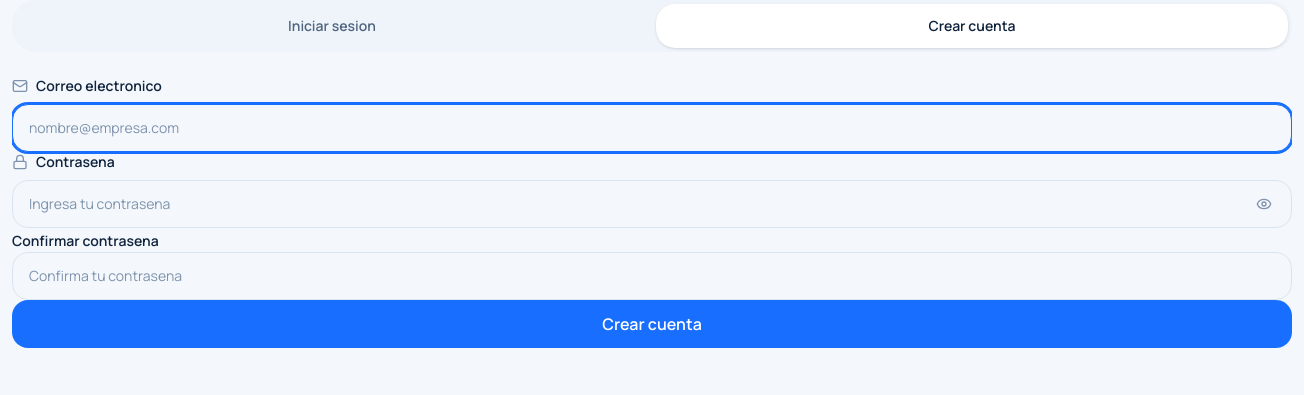
Test: AuthForm › validates confirmPassword only in register mode
The image size is (1304, 395).
In the field labelled "Correo electronico": point(652, 128) 12,104 -> 1292,152, type "user@example.com"
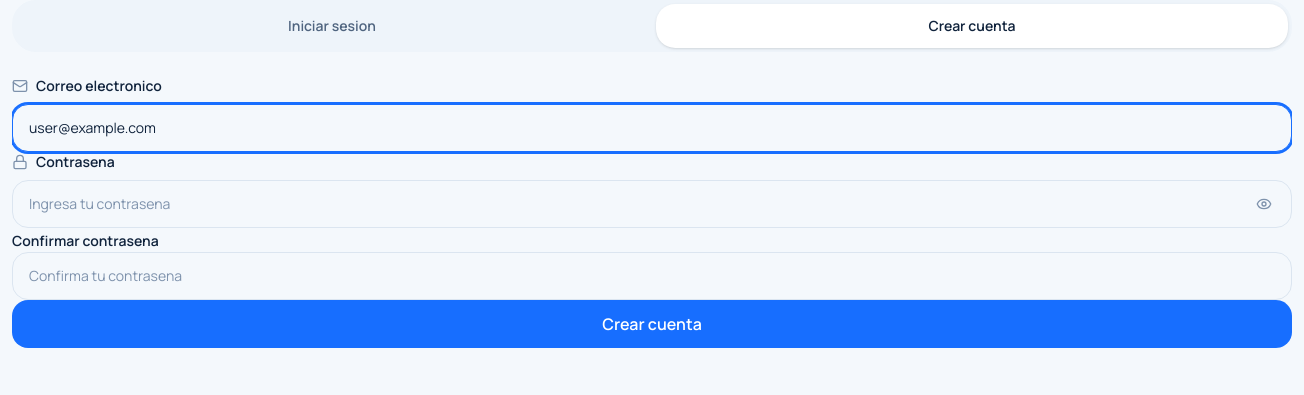
In the password field labelled "Contrasena": point(652, 204) 12,180 -> 1292,228, type "secret123"
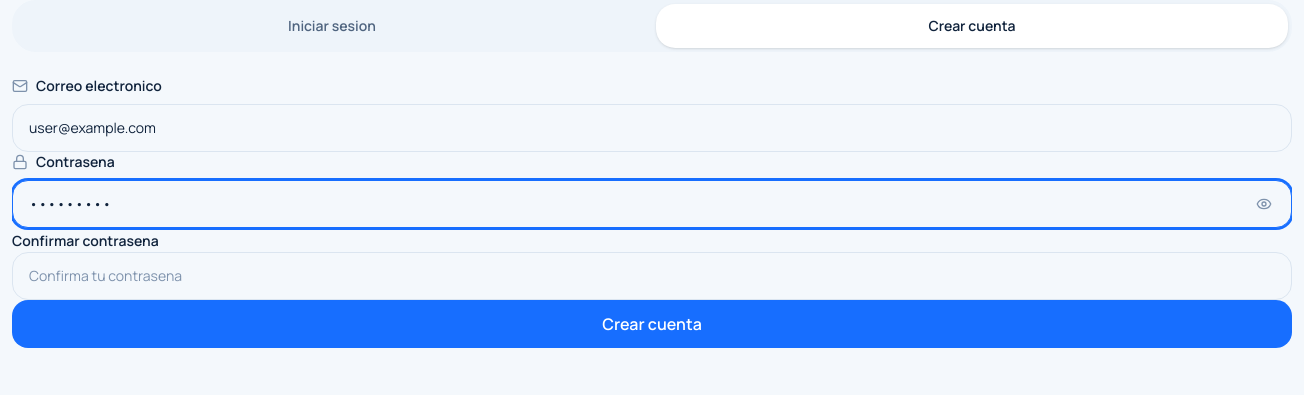
Click the button "Crear cuenta" below "Confirmar contrasena": point(652, 324) 12,300 -> 1292,348
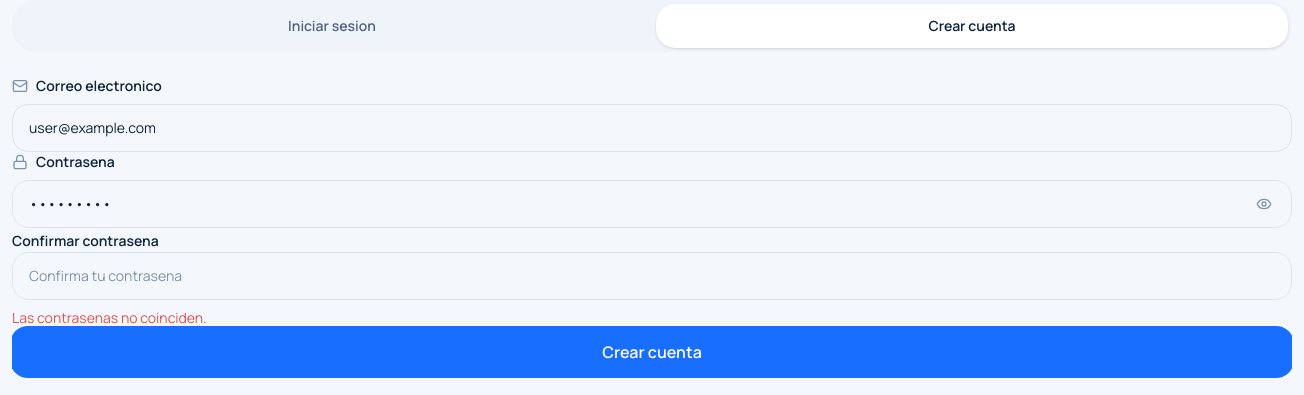
Expected: the text "Las contrasenas no coinciden." is shown, 12,308 -> 207,327
